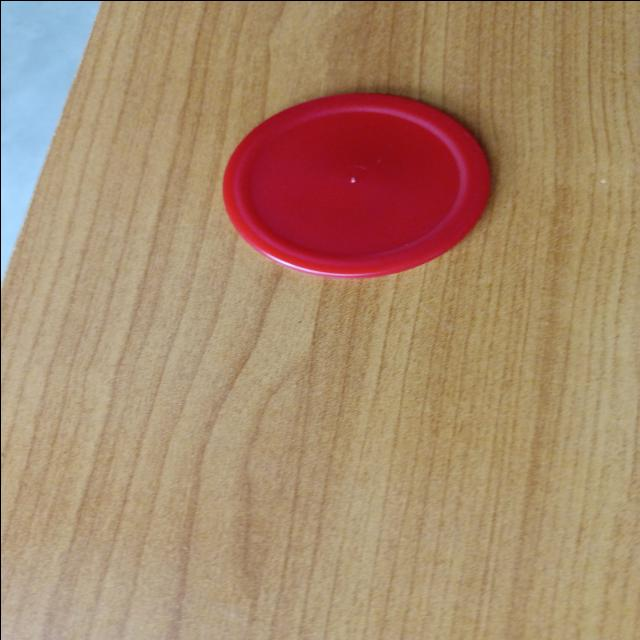chip: (221, 90, 495, 278)
